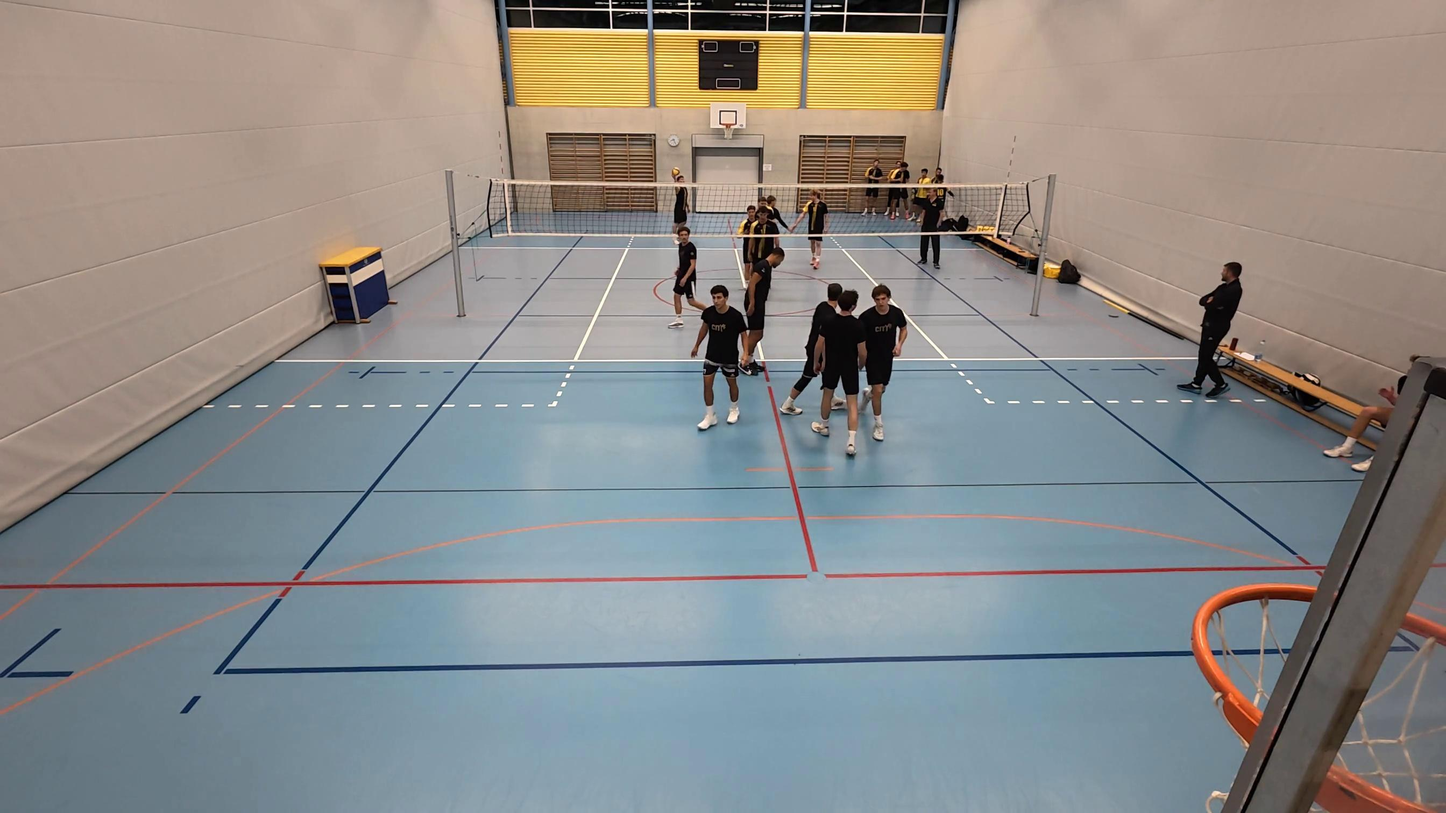Player: (806, 284, 862, 454), (779, 284, 850, 413), (691, 284, 747, 430), (857, 285, 905, 439), (739, 224, 785, 376), (667, 224, 701, 329), (747, 204, 783, 301), (733, 203, 764, 294), (802, 188, 830, 272), (756, 189, 790, 240), (670, 173, 691, 244)
ball: (670, 167, 683, 180)
